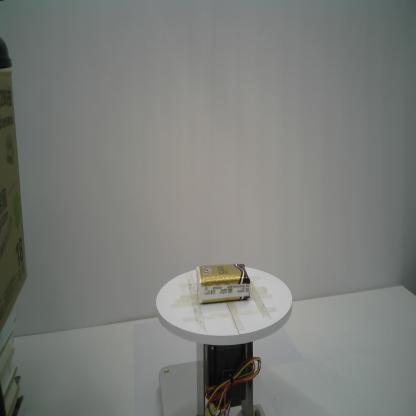Tissue: (195, 263, 251, 304)
